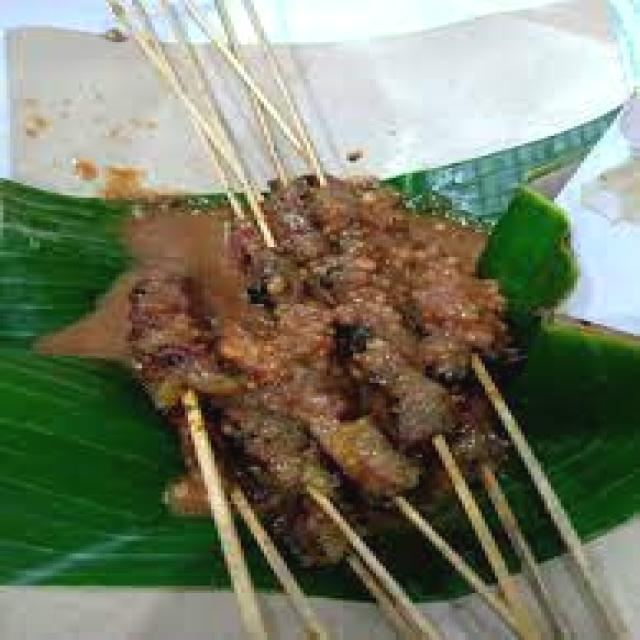sate: (33, 175, 640, 640)
